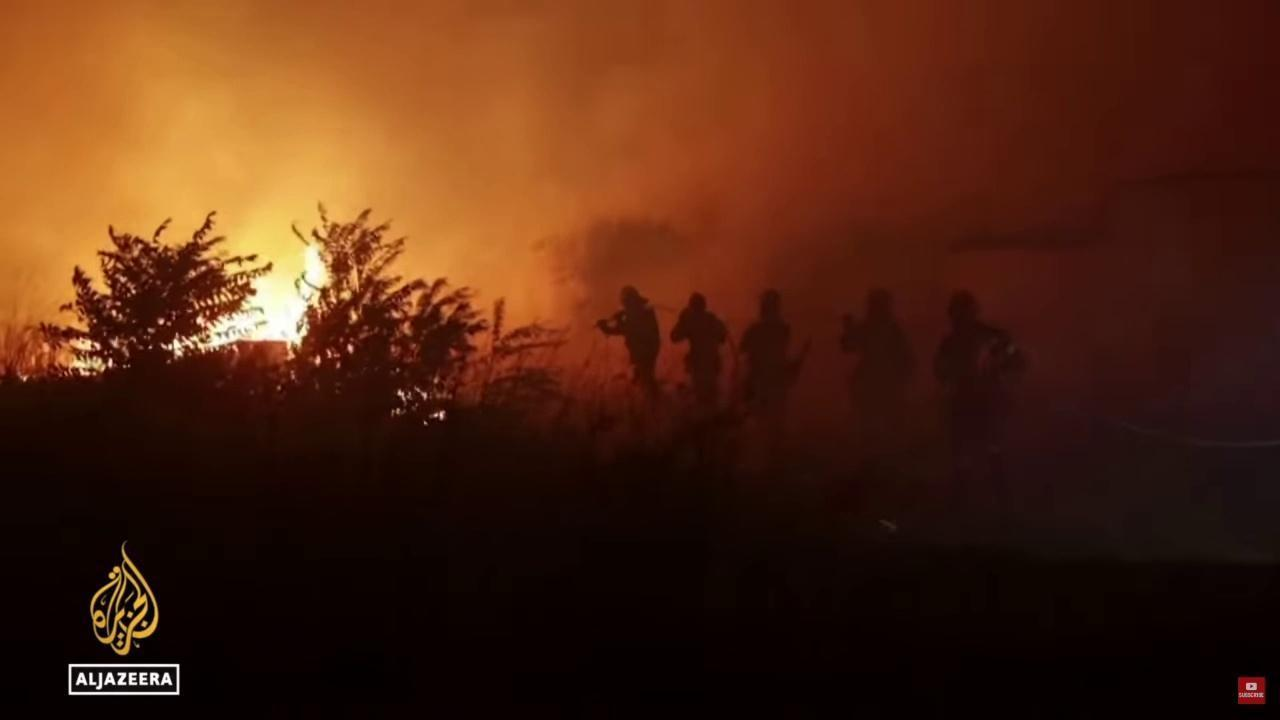fire: (56, 233, 347, 390)
smoke: (0, 0, 1280, 561)
